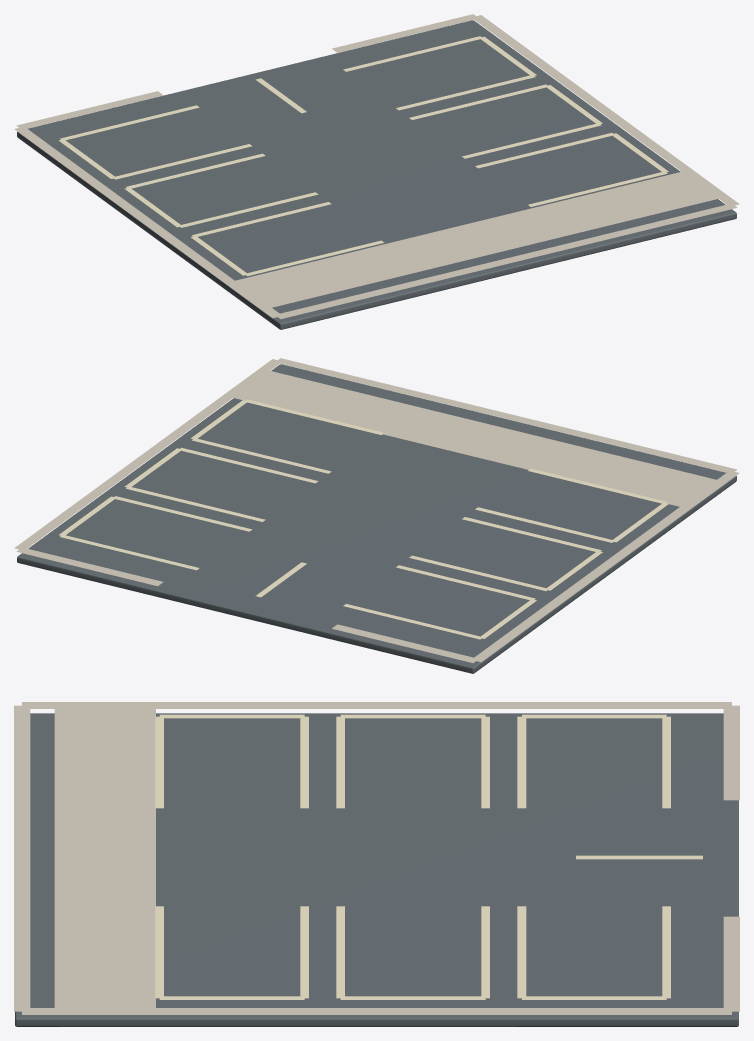
The model's file is parking-big.glb.
3 renders of one model, top to bottom at view 1: azimuth 30°, elevation 25°; view 2: azimuth 150°, elevation 25°; view 3: azimuth 270°, elevation 25°, orthographic. The views are drawn at different scales.
Visible parts, largest first — view 1: Lot surface, Batch_Sidewalk stone_, Batch_Road paint_; view 2: Lot surface, Batch_Sidewalk stone_, Batch_Road paint_; view 3: Lot surface, Batch_Sidewalk stone_, Batch_Road paint_.
Part boxes in pixels (x1,y1,x2,y2): Lot surface: (17, 20, 736, 329); Batch_Sidewalk stone_: (14, 14, 739, 318); Batch_Road paint_: (58, 36, 668, 276); Lot surface: (17, 364, 736, 673); Batch_Sidewalk stone_: (14, 358, 739, 662); Batch_Road paint_: (59, 399, 668, 639); Lot surface: (15, 713, 738, 1026); Batch_Sidewalk stone_: (14, 702, 739, 1014); Batch_Road paint_: (155, 714, 702, 999).
Size of the model in its own units: 2.92 by 0.075 by 2.86.
